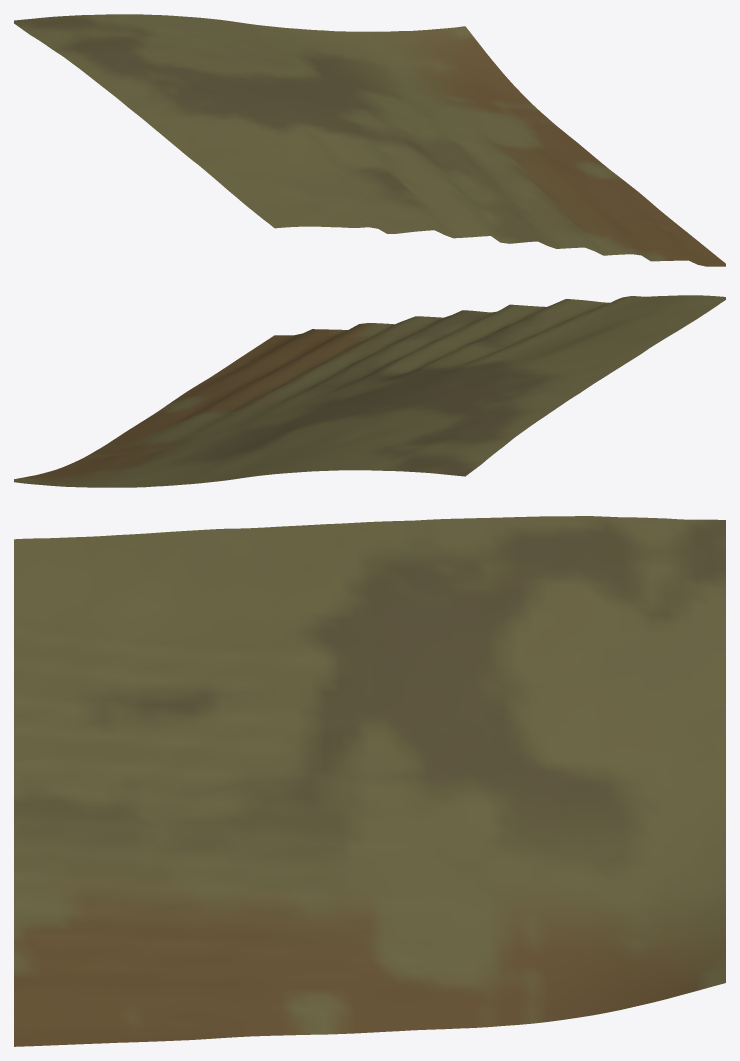
File: land_m_06_03.glb
3 renders of one model, top to bottom at view 1: azimuth 30°, elevation 25°; view 2: azimuth 150°, elevation 25°; view 3: azimuth 270°, elevation 25°, orthographic. The views are drawn at different scales.
Parts seen in each view (by area): view 1: land_m_06_03; view 2: land_m_06_03; view 3: land_m_06_03.
Boxes of the visible parts, <box> form: land_m_06_03: <box>14,14,725,266</box>; land_m_06_03: <box>14,295,725,487</box>; land_m_06_03: <box>14,516,725,1046</box>.
Bounding box in the file's own units: 960 × 342 × 960.
